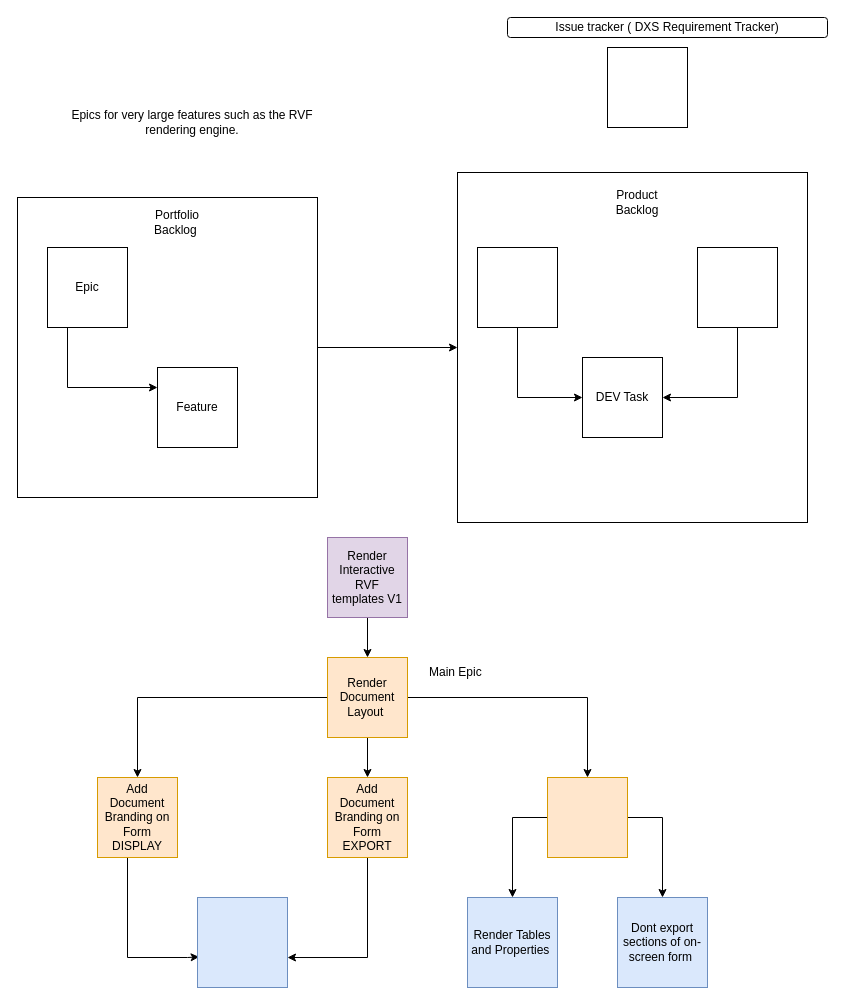
Image size: 845x1005. Some labels were removed from this diagram. The shapes that lost their labels are listed below. From the top down, each one's centre as x and y in pixels, then its label:
At (647,87): "Issue".
At (517,287): "User story".
At (737,287): "Bug".
At (587,817): "Render Document TABLES".
At (242,942): "Add Automatic Publisher Branding on Display and Export of Document".
